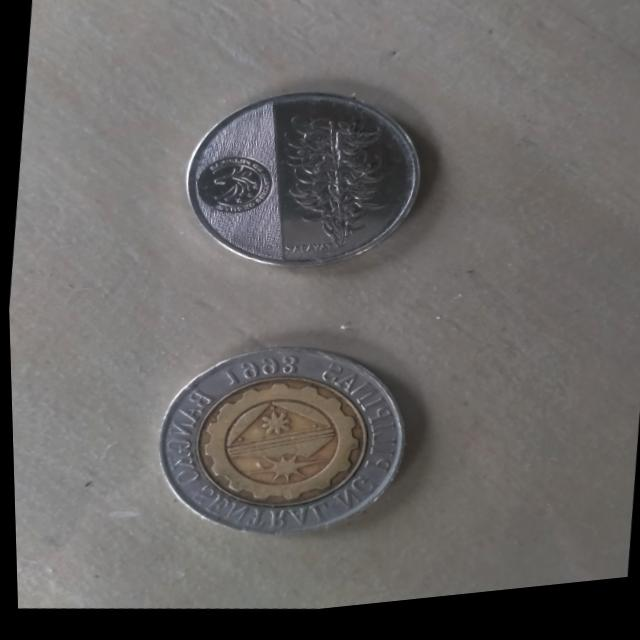10_Old_Back: (140, 328, 412, 560)
5_New_Back: (263, 98, 402, 258)
